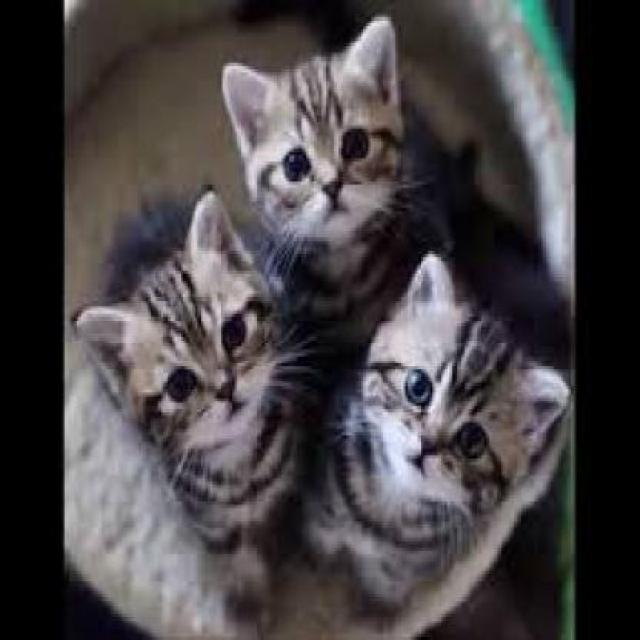cat: (72, 198, 312, 630), (324, 256, 570, 615), (222, 15, 438, 253)
